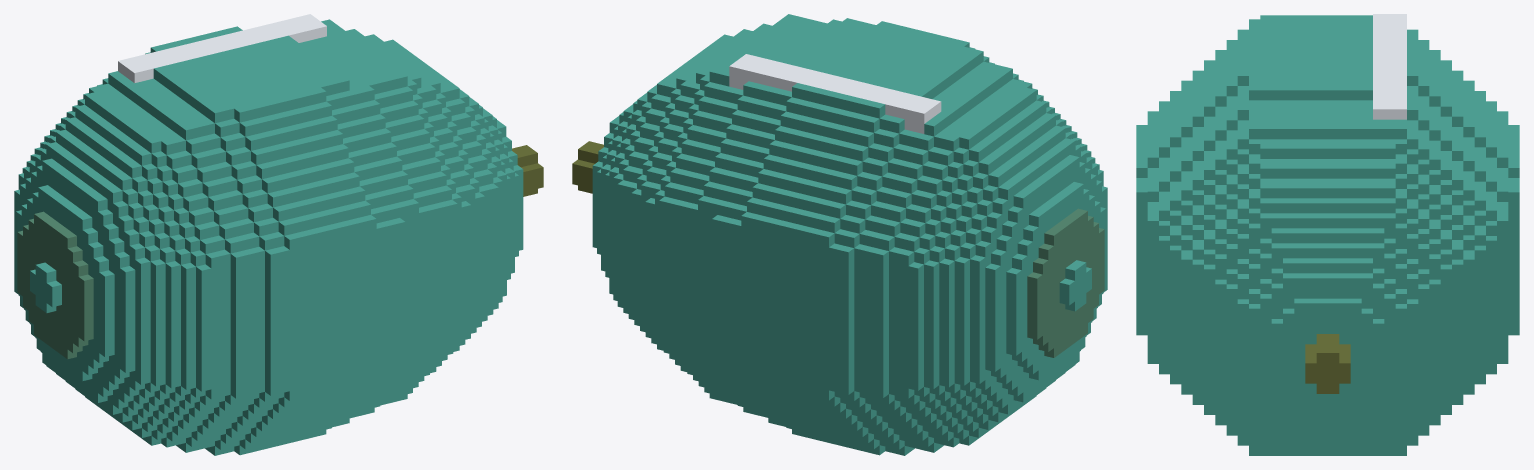
The model's file is jelly_fruit.glb.
3 renders of one model, left to right at view 1: azimuth 30°, elevation 25°; view 2: azimuth 150°, elevation 25°; view 3: azimuth 270°, elevation 25°, orthographic.
Visible parts, largest first — view 1: jelly_fruit:compound; view 2: jelly_fruit:compound; view 3: jelly_fruit:compound.
Part boxes in pixels (bbox=[...]): jelly_fruit:compound: bbox=[14, 14, 543, 455]; jelly_fruit:compound: bbox=[572, 14, 1107, 455]; jelly_fruit:compound: bbox=[1136, 14, 1519, 455].
Size of the model in its own units: 0.102 by 0.068 by 0.068.
